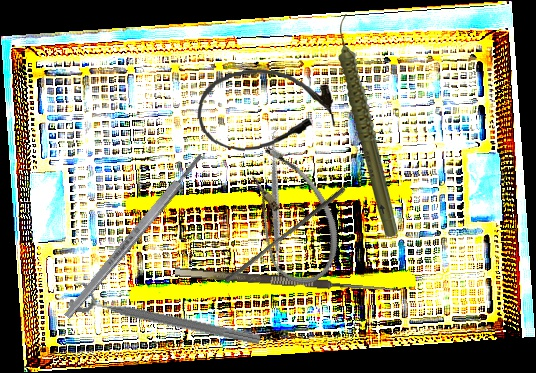Cannula: (221, 136, 358, 295), (194, 63, 337, 155)
Fixation Ring: (67, 279, 265, 350)
Handpiece: (337, 14, 399, 237)
Hook Surgical: (174, 255, 403, 296)
Pusher: (224, 181, 347, 288)
Scalpel Handle: (61, 151, 207, 321)
Spatula Surgical: (198, 127, 354, 284)
